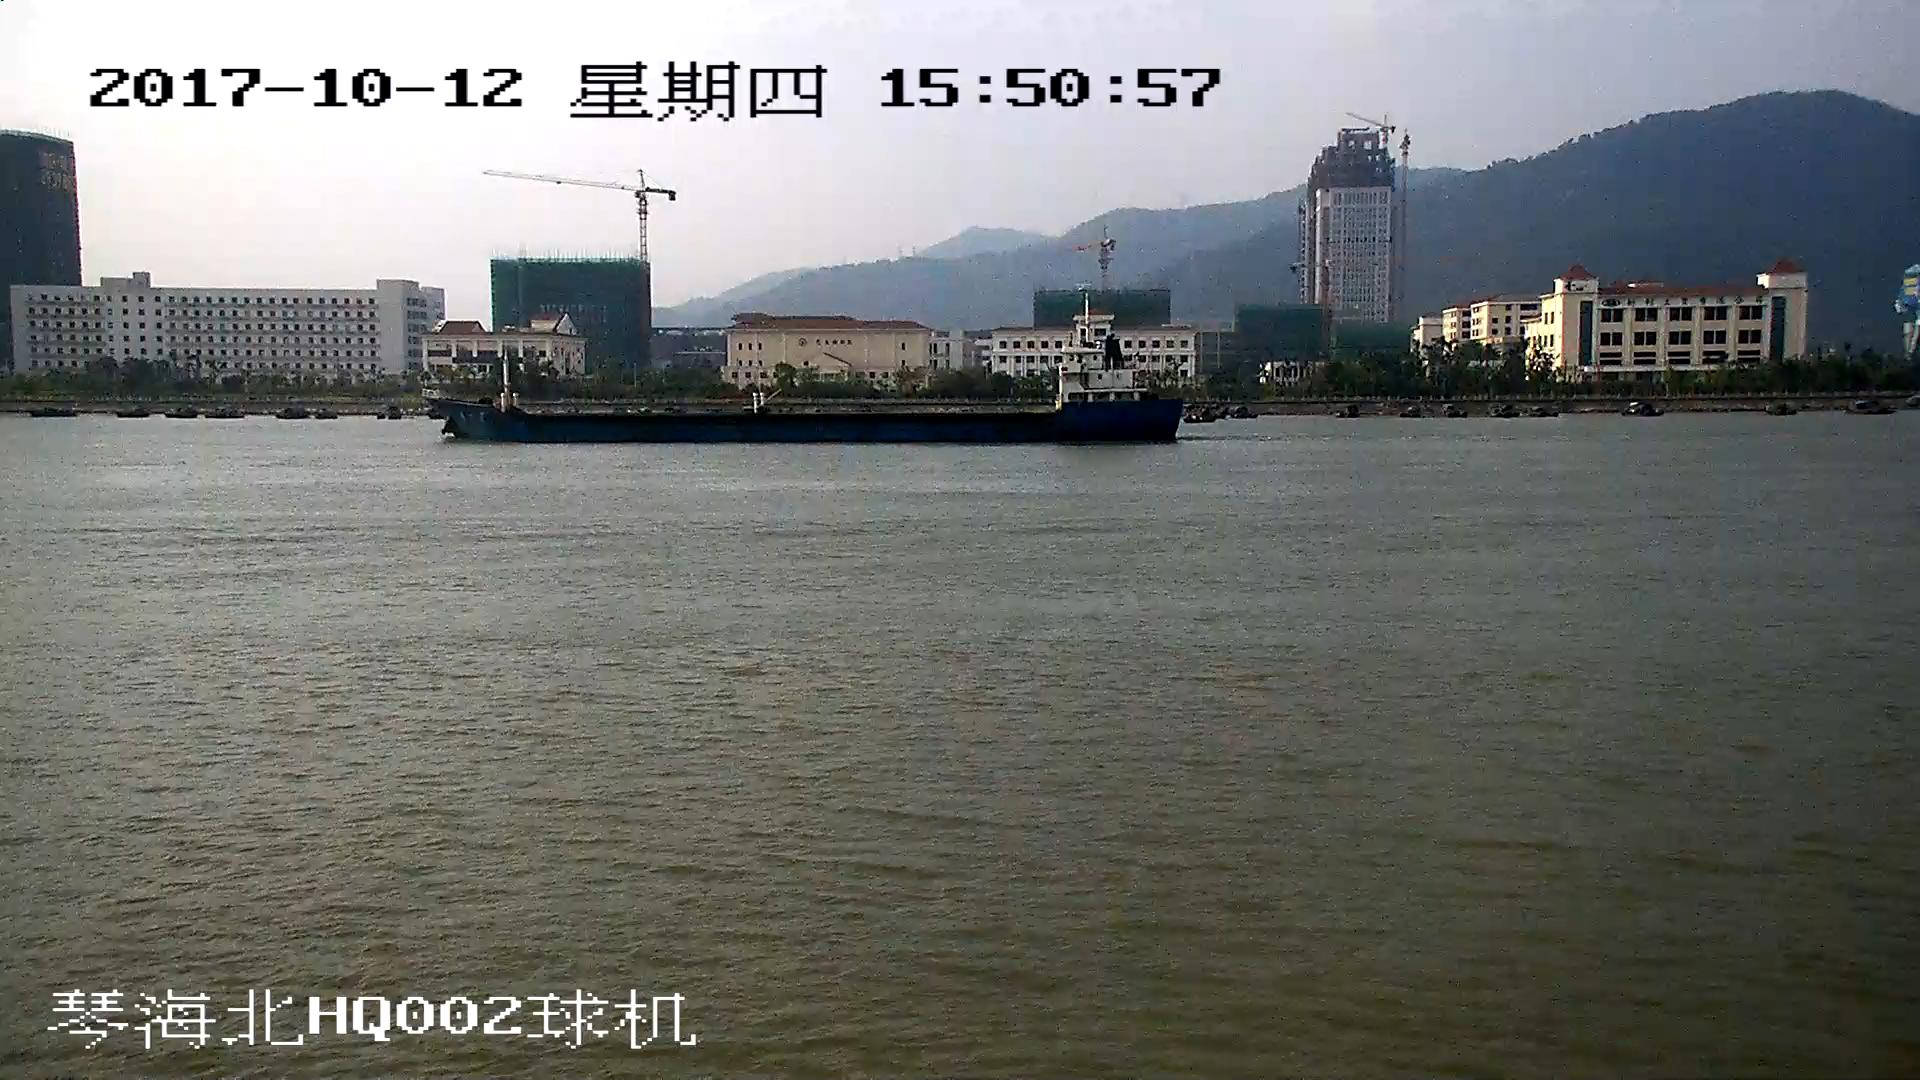general cargo ship: (423, 349, 1178, 444)
